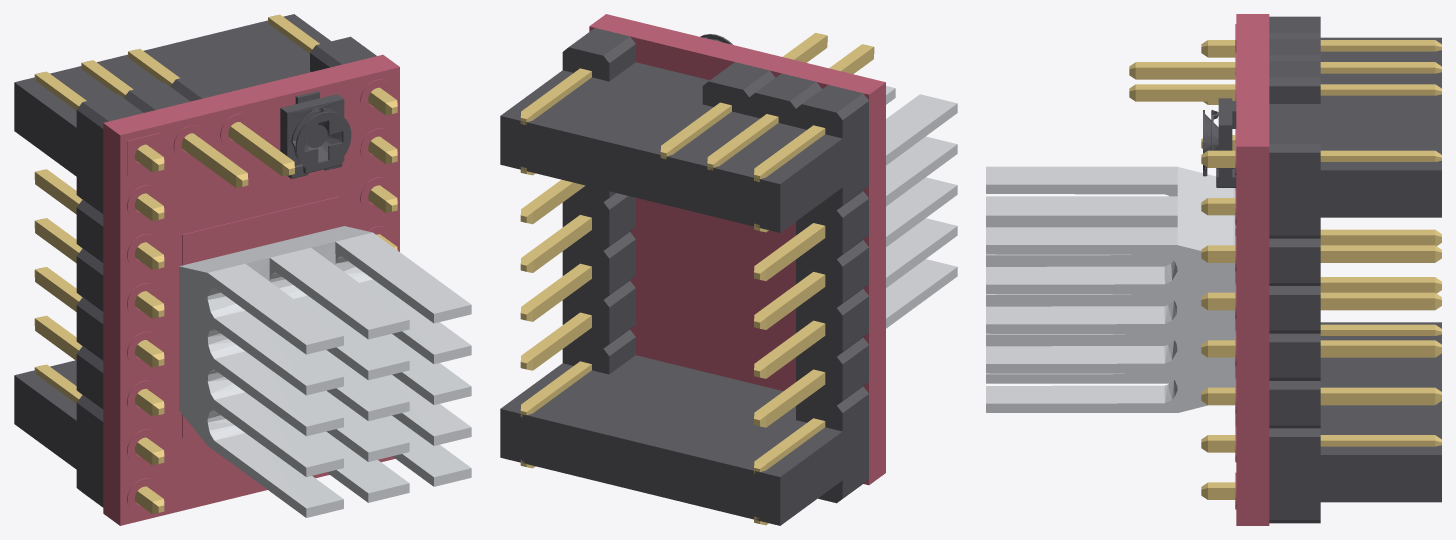
File: driver.glb
The picture shows the model from 3 angles, left to right: view 1: azimuth 30°, elevation 25°; view 2: azimuth 150°, elevation 25°; view 3: azimuth 270°, elevation 25°; orthographic projection. The views are drawn at different scales.
Visible parts, largest first — view 1: aluminium, pcb-red, plastic-black, gold; view 2: plastic-black, pcb-red, gold, aluminium; view 3: plastic-black, aluminium, gold, pcb-red.
Boxes of the visible parts, bbox=[...] form: aluminium: bbox=[179, 226, 471, 517]; pcb-red: bbox=[103, 54, 399, 525]; plastic-black: bbox=[14, 14, 376, 507]; gold: bbox=[34, 14, 397, 513]; plastic-black: bbox=[500, 28, 868, 525]; pcb-red: bbox=[589, 14, 885, 485]; gold: bbox=[520, 33, 874, 525]; aluminium: bbox=[886, 86, 957, 328]; plastic-black: bbox=[1203, 16, 1441, 523]; aluminium: bbox=[986, 166, 1235, 412]; gold: bbox=[1129, 40, 1441, 499]; pcb-red: bbox=[1235, 14, 1269, 525].
Bounding box in the file's own units: 0.0152 × 0.0203 × 0.0221.
